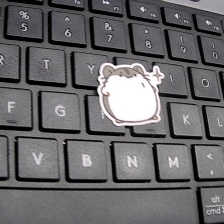mouse: (98, 61, 168, 129)
